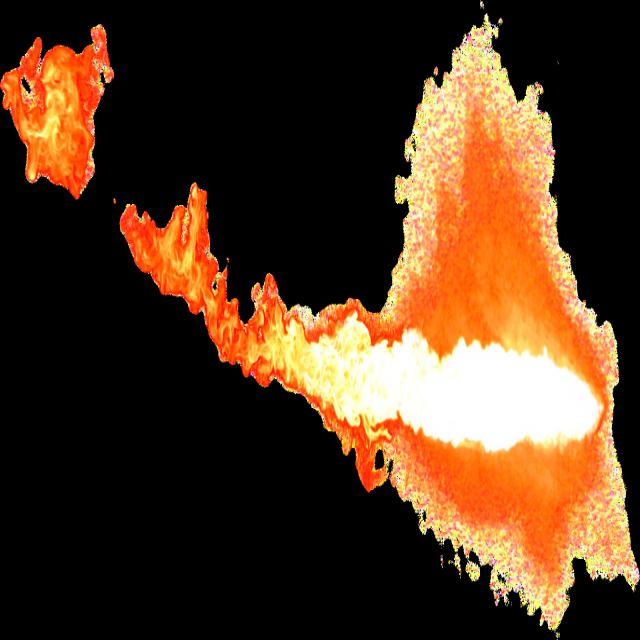fire: (0, 37, 84, 198)
